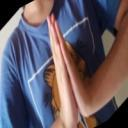hand: (50, 14, 101, 118), (47, 15, 79, 128)
